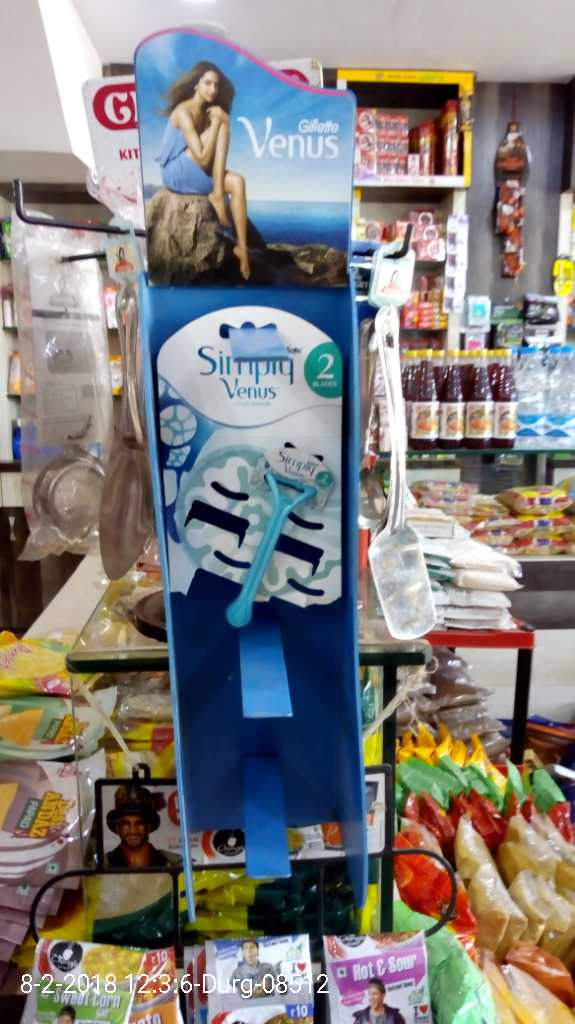reject: (182, 221, 257, 285)
